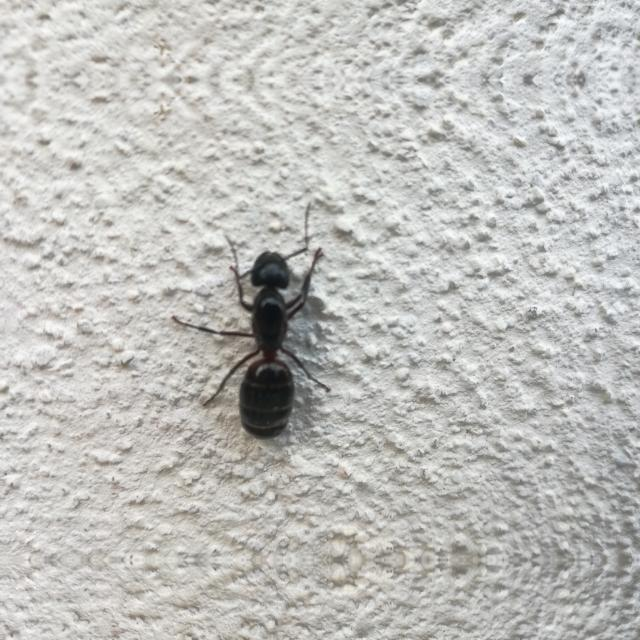Camponotus: (187, 218, 357, 448)
